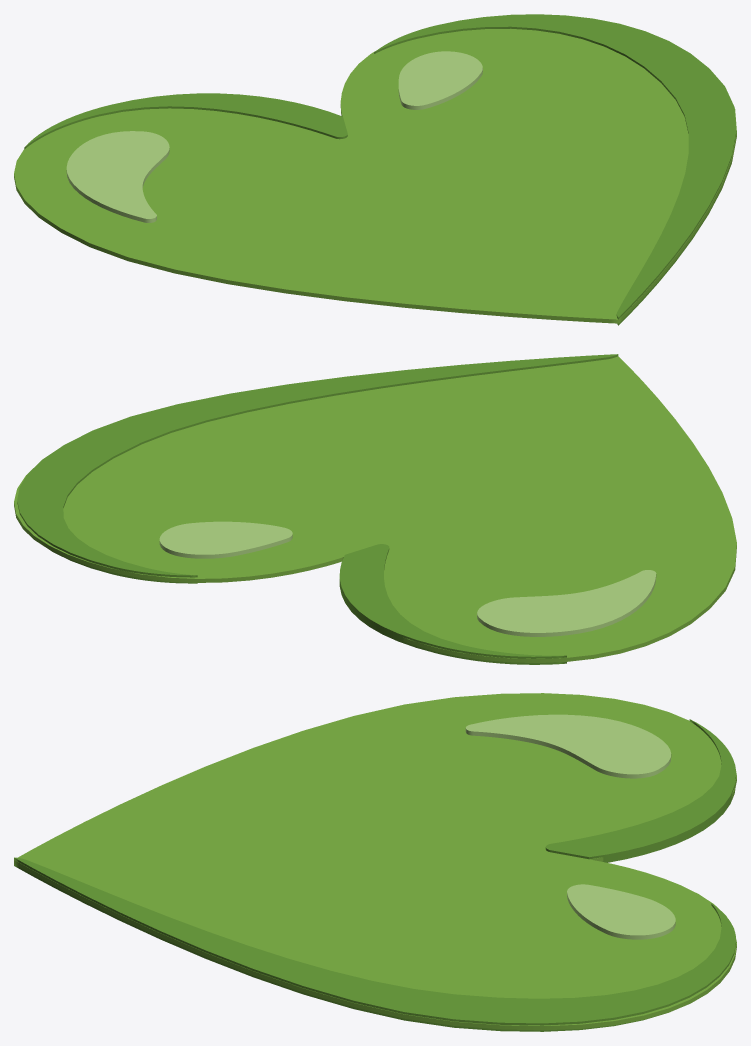
The model's file is emoji_u1f49a.glb.
3 renders of one model, top to bottom at view 1: azimuth 30°, elevation 25°; view 2: azimuth 150°, elevation 25°; view 3: azimuth 270°, elevation 25°, orthographic. The views are drawn at different scales.
Visible parts, largest first — view 1: emoji_u1f49a; view 2: emoji_u1f49a; view 3: emoji_u1f49a.
Boxes of the visible parts, x1,y1,x2,y2 form: emoji_u1f49a: (14, 14, 736, 325); emoji_u1f49a: (14, 354, 736, 664); emoji_u1f49a: (14, 693, 736, 1031).
Size of the model in its own units: 0.0339 by 0.0006 by 0.0311.
